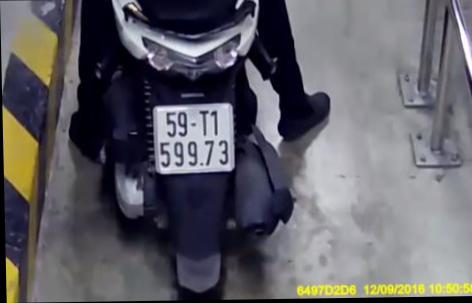LP: (152, 103, 235, 175)
